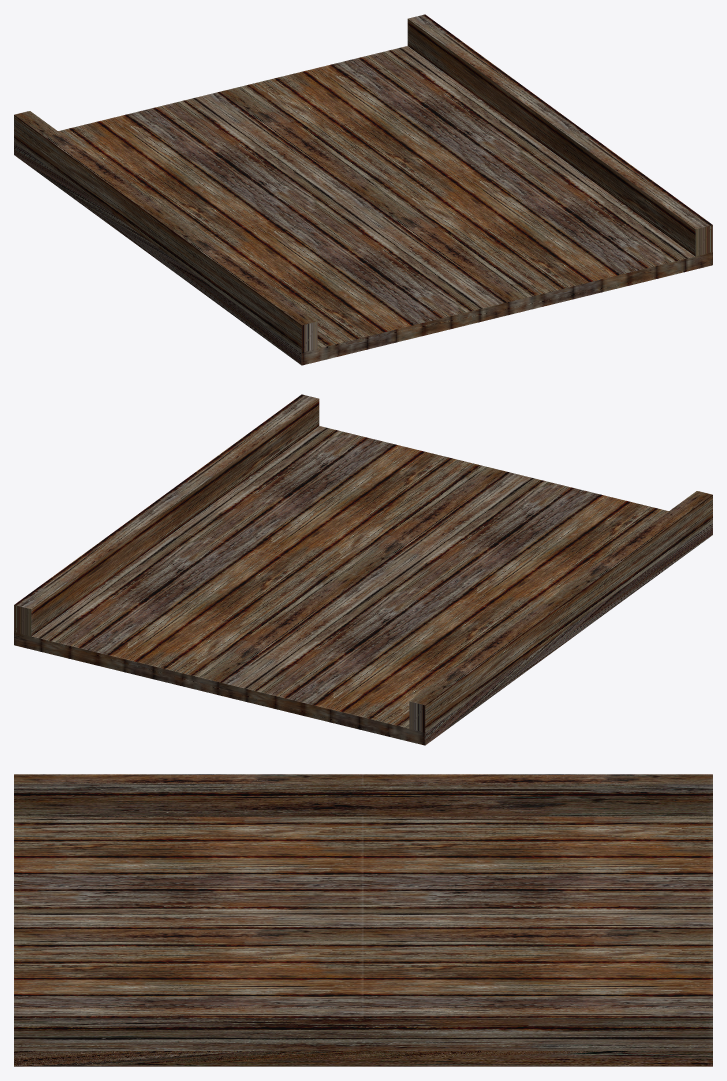
The model's file is SeeSawModel.fbx.
3 views of the same model, one above another, from view 1: azimuth 30°, elevation 25°; view 2: azimuth 150°, elevation 25°; view 3: azimuth 270°, elevation 25° (orthographic). The views are drawn at different scales.
Parts seen in each view (by area): view 1: Platform; view 2: Platform; view 3: Platform.
Part boxes in pixels (left/top/right/bottom): Platform: left=14, top=14, right=712, bottom=365; Platform: left=14, top=394, right=712, bottom=745; Platform: left=14, top=774, right=712, bottom=1066.
Bounding box in the file's own units: 13.2 × 1.24 × 16.
